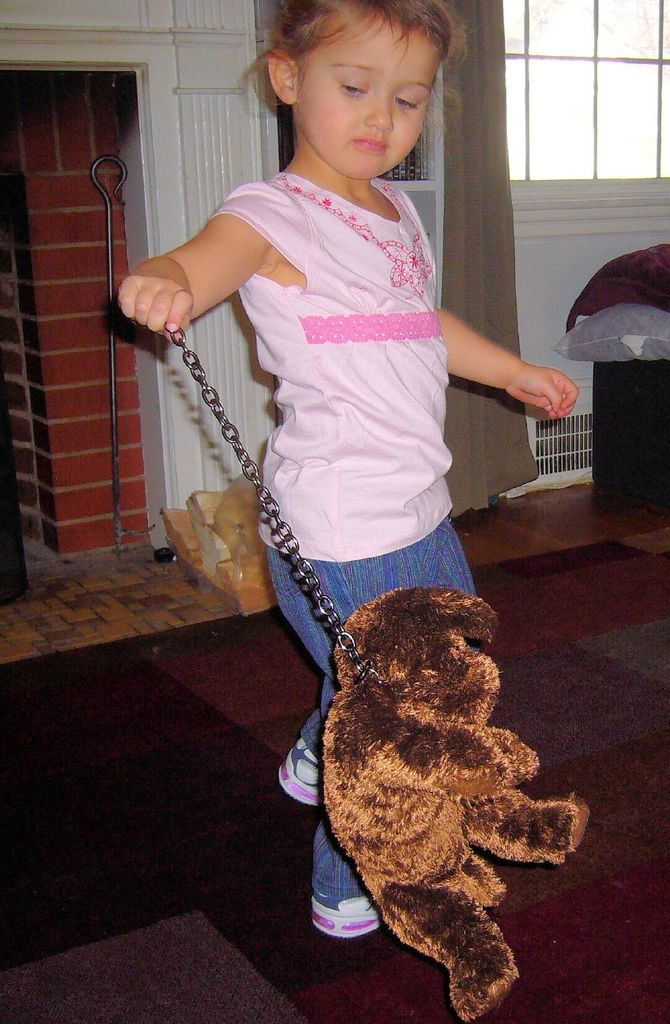Human_hand: (468, 294, 602, 418), (114, 270, 195, 346), (510, 357, 584, 426)
